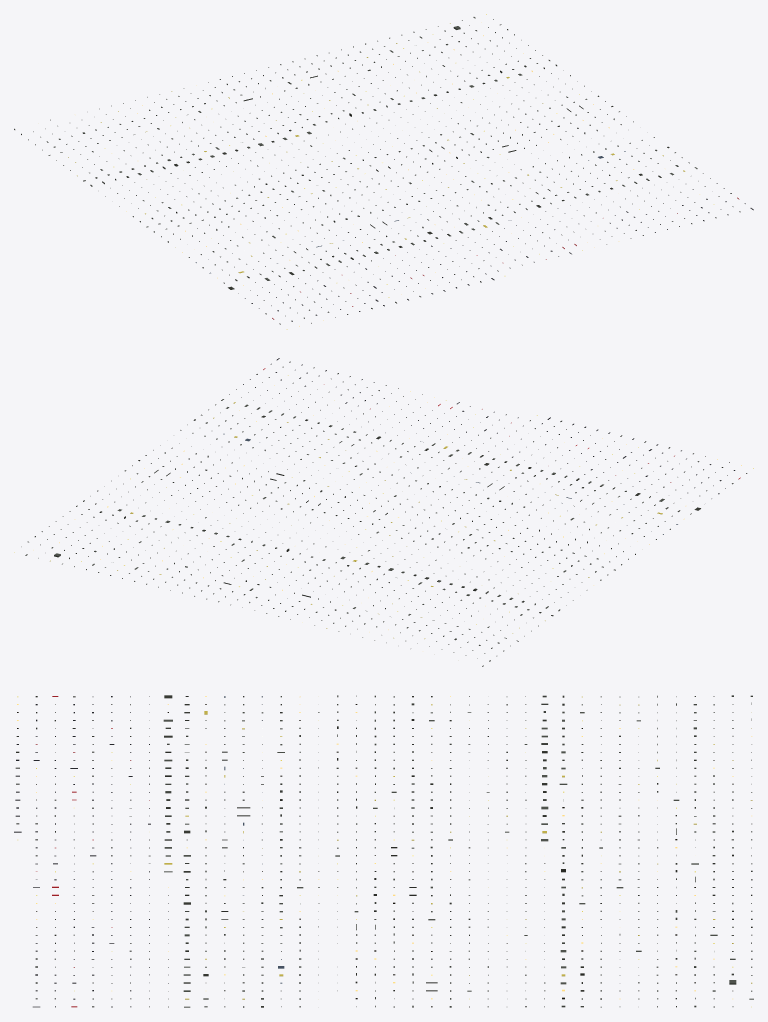
The model's file is detail-kit.glb.
The picture shows the model from 3 angles, top to bottom: view 1: azimuth 30°, elevation 25°; view 2: azimuth 150°, elevation 25°; view 3: azimuth 270°, elevation 25°; orthographic projection. The views are drawn at different scales.
Bounding box in the file's own units: 94.36 × 0.3948 × 94.6.
